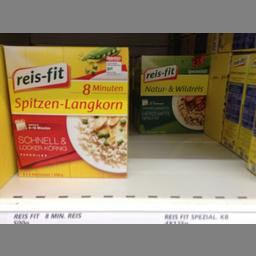rice: (0, 44, 129, 178), (136, 54, 211, 135)
